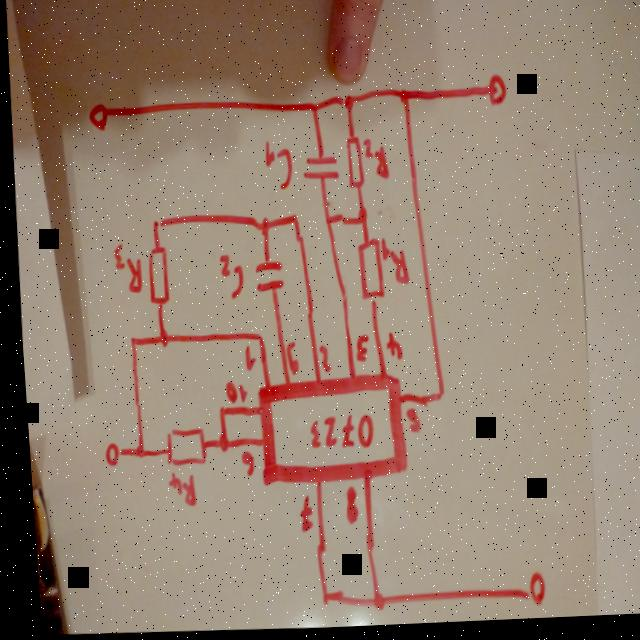capacitor: (298, 150, 339, 192), (246, 256, 285, 300)
junction: (307, 590, 327, 616), (252, 218, 273, 242), (360, 594, 378, 617), (281, 209, 300, 230), (351, 208, 368, 229), (126, 443, 142, 465), (339, 94, 354, 117), (395, 89, 412, 109), (211, 435, 226, 457), (150, 330, 166, 350), (146, 215, 161, 234), (305, 101, 319, 119), (430, 390, 443, 408), (122, 335, 136, 351), (319, 216, 330, 233), (211, 408, 222, 424), (251, 333, 262, 347)
resistor: (350, 238, 382, 311), (157, 425, 204, 469), (141, 245, 169, 313), (339, 132, 365, 197)
terminal: (479, 75, 510, 115), (514, 575, 540, 615), (85, 102, 111, 135), (93, 440, 118, 470)
text: (299, 414, 374, 456), (104, 241, 142, 299), (255, 142, 293, 196), (375, 239, 409, 291), (158, 470, 195, 515), (212, 255, 243, 306), (359, 140, 390, 187), (333, 488, 354, 532), (288, 496, 310, 538), (216, 380, 245, 407), (278, 342, 297, 380), (380, 334, 401, 366), (348, 335, 367, 370), (311, 346, 331, 379), (397, 409, 418, 440), (233, 345, 254, 376), (231, 451, 252, 481)
